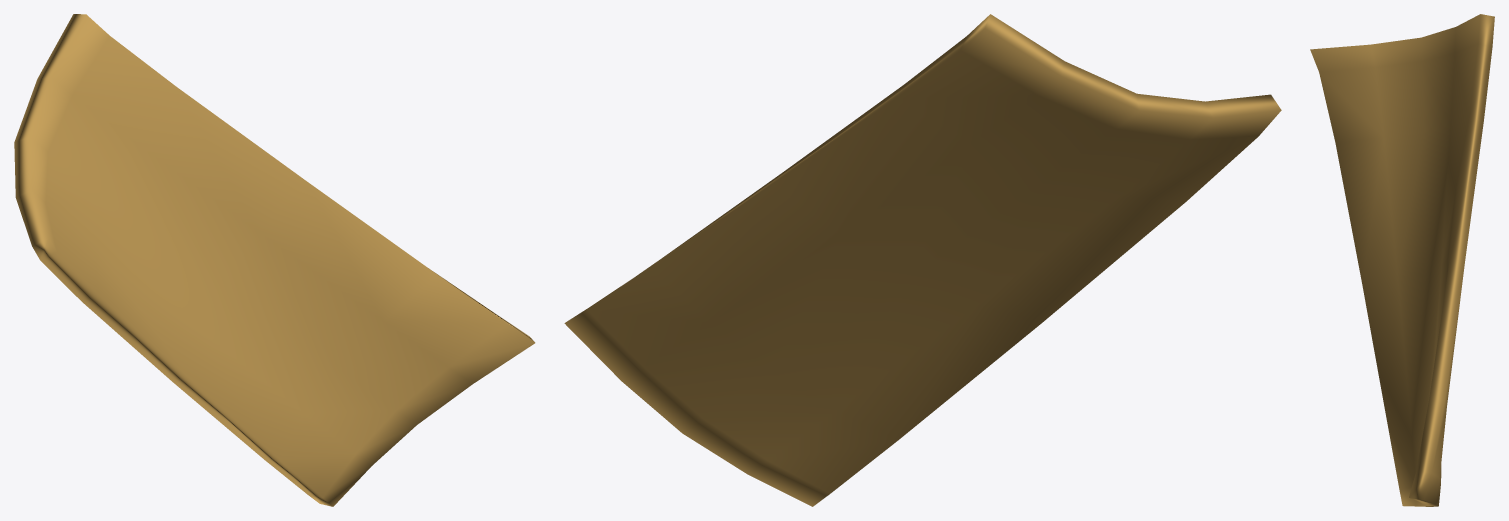
3 views of the same model, side by side, from view 1: azimuth 30°, elevation 25°; view 2: azimuth 150°, elevation 25°; view 3: azimuth 270°, elevation 25° (orthographic). The views are drawn at different scales.
Visible parts, largest first — view 1: 左侧跟骰足底韧带; view 2: 左侧跟骰足底韧带; view 3: 左侧跟骰足底韧带.
Part boxes in pixels (x1=…): 左侧跟骰足底韧带: x1=14, y1=14, x2=535, y2=506; 左侧跟骰足底韧带: x1=564, y1=14, x2=1281, y2=506; 左侧跟骰足底韧带: x1=1310, y1=14, x2=1494, y2=506.
Bounding box in the file's own units: 0.0251 × 0.0216 × 0.00874.
